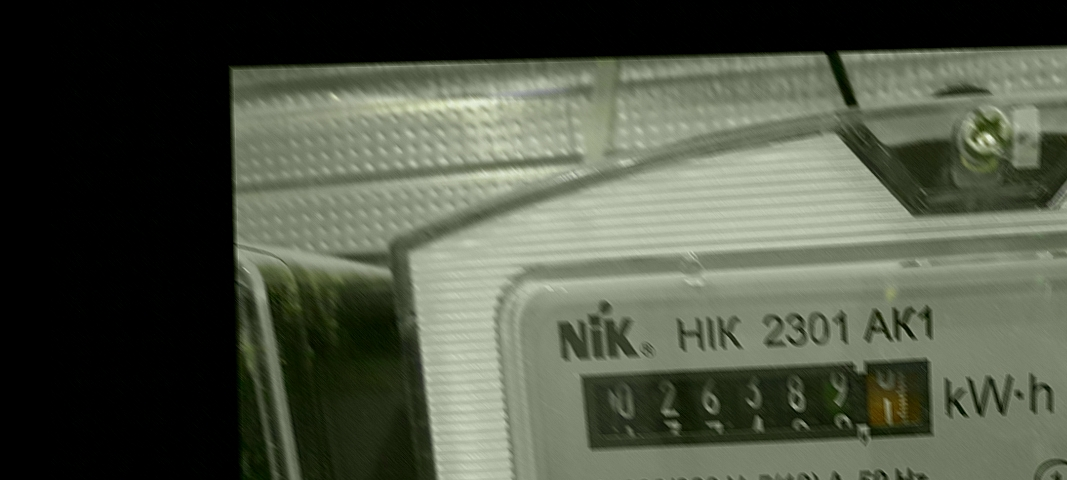0: (613, 379, 638, 419), (877, 368, 896, 389)
1: (882, 395, 896, 426)
2: (658, 378, 682, 417)
3: (745, 374, 763, 409)
6: (702, 375, 721, 415)
8: (787, 373, 809, 411)
9: (830, 371, 849, 405)
screen: (568, 346, 949, 461)
